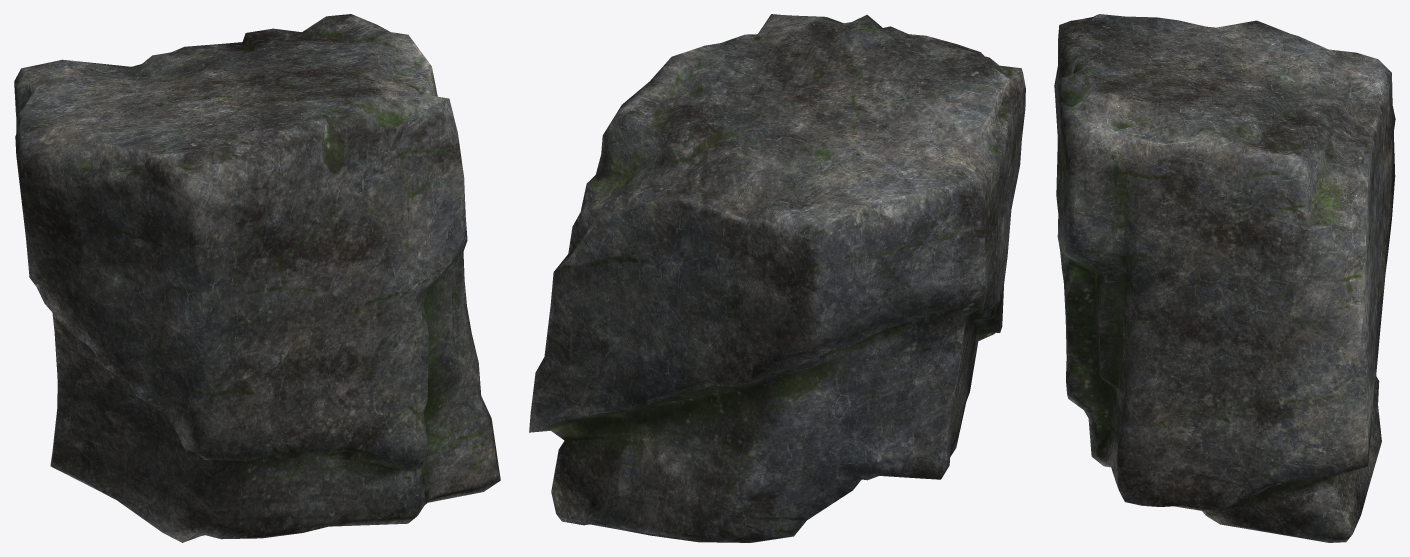
The model's file is Free_rock.obj.
The picture shows the model from 3 angles, left to right: view 1: azimuth 30°, elevation 25°; view 2: azimuth 150°, elevation 25°; view 3: azimuth 270°, elevation 25°; orthographic projection. The views are drawn at different scales.
Visible parts, largest first — view 1: Free_rock; view 2: Free_rock; view 3: Free_rock.
Part boxes in pixels (box(x1,y1,x2,y2)): Free_rock: box(14, 14, 500, 542); Free_rock: box(529, 14, 1025, 542); Free_rock: box(1054, 14, 1395, 542).
Size of the model in its own units: 15.72 by 16.82 by 13.07.
Materials: 1 (1 with a texture image).
